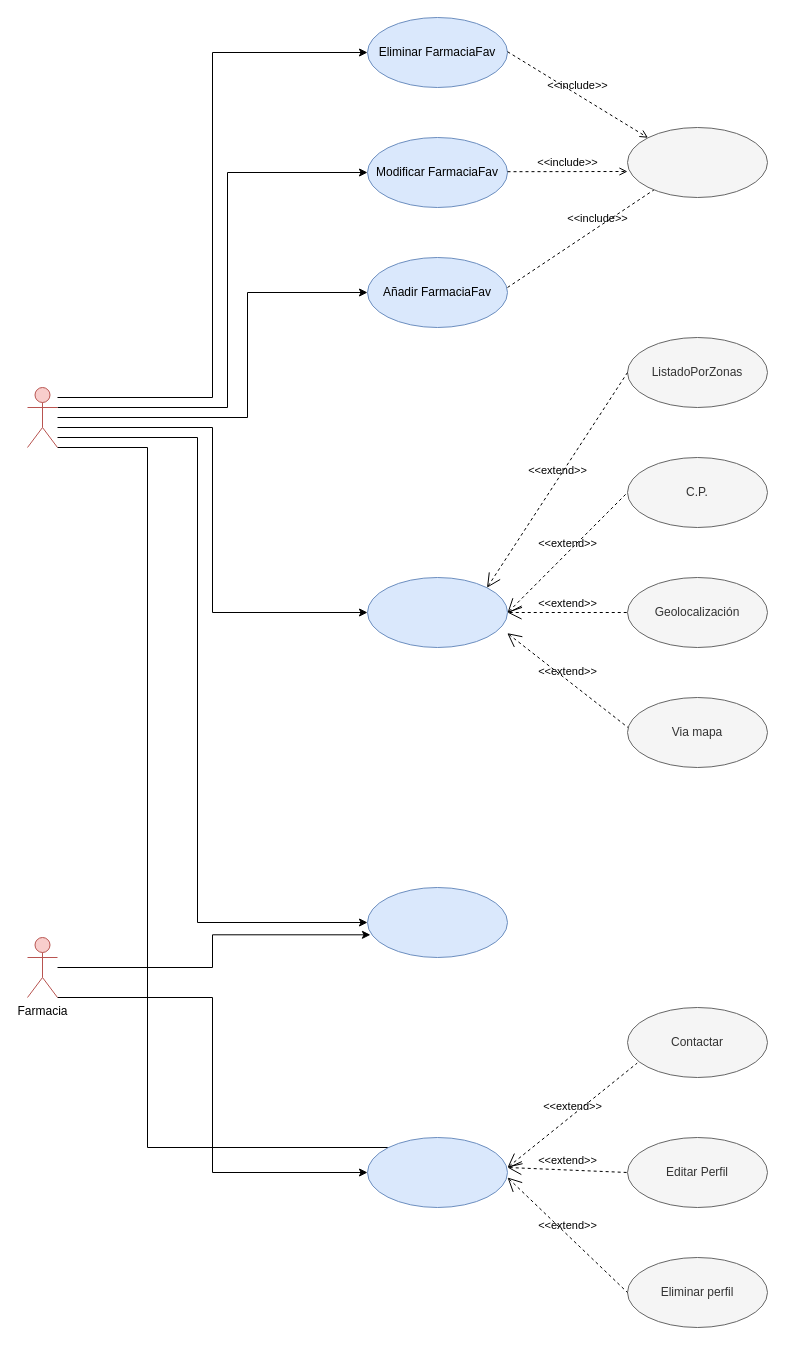
This 785x1345 diagram has some shape labels left out. The shapes that lost their labels are listed below. From the top down, each one's box as (x1, y1, x2, y2) in pixels, then its label:
(626, 126, 768, 198): Indentificarse
(26, 386, 58, 448): Usuario
(366, 576, 508, 648): Buscar Farmacia
(366, 886, 508, 958): Registrar Perfil
(366, 1136, 508, 1208): Identificarse
